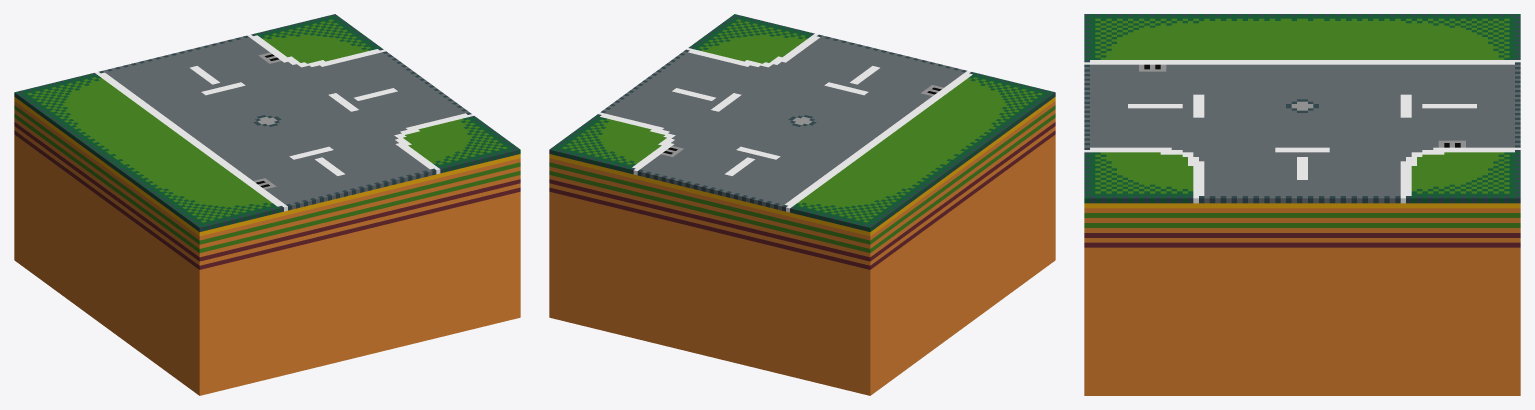
File: road_3_tile.obj
The picture shows the model from 3 angles, left to right: view 1: azimuth 30°, elevation 25°; view 2: azimuth 150°, elevation 25°; view 3: azimuth 270°, elevation 25°; orthographic projection. The views are drawn at different scales.
Size of the model in its own units: 8 by 4 by 8.
1 material, 1 textured.
